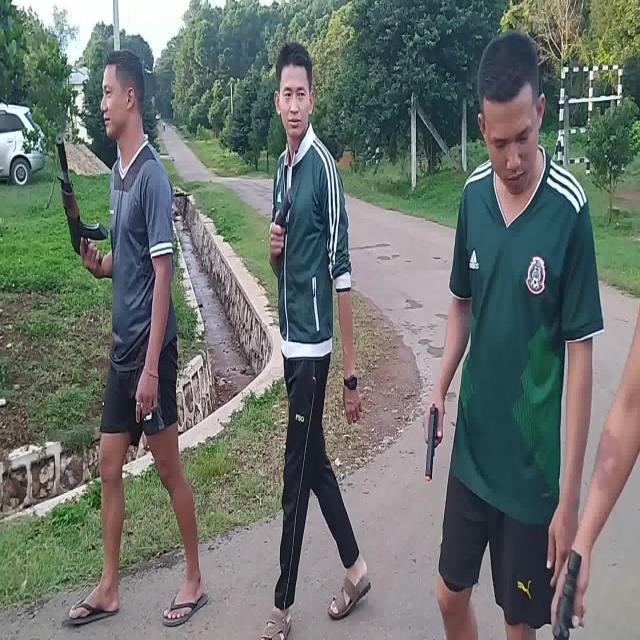gun: (56, 136, 108, 264), (425, 404, 437, 479)
